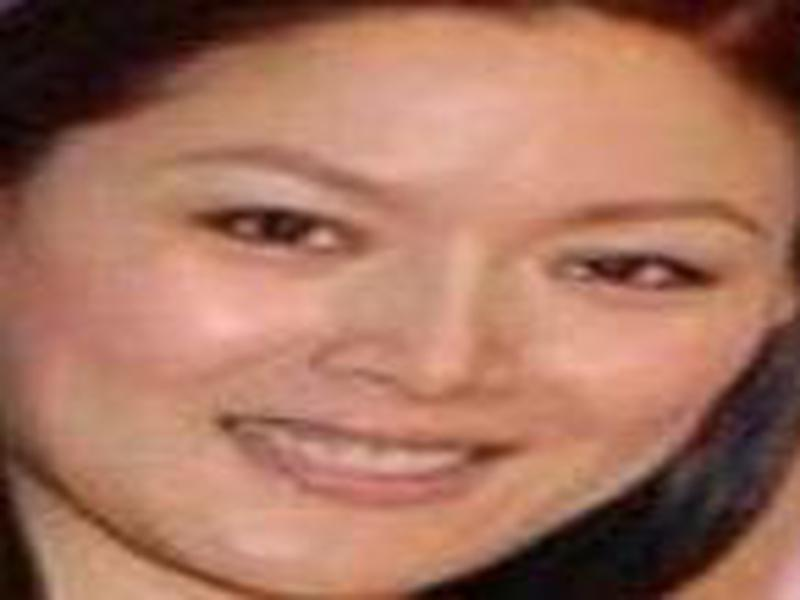without_mask: (10, 10, 791, 600)
